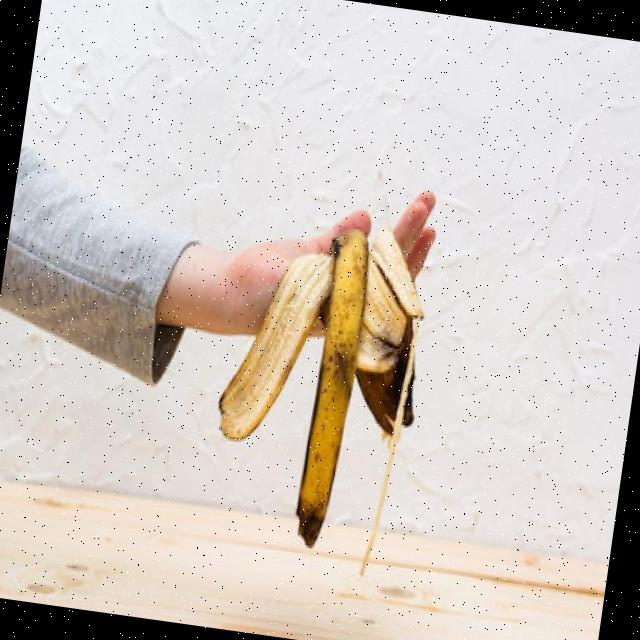banana-peel: (199, 205, 438, 560), (288, 224, 376, 550), (212, 238, 336, 451)
